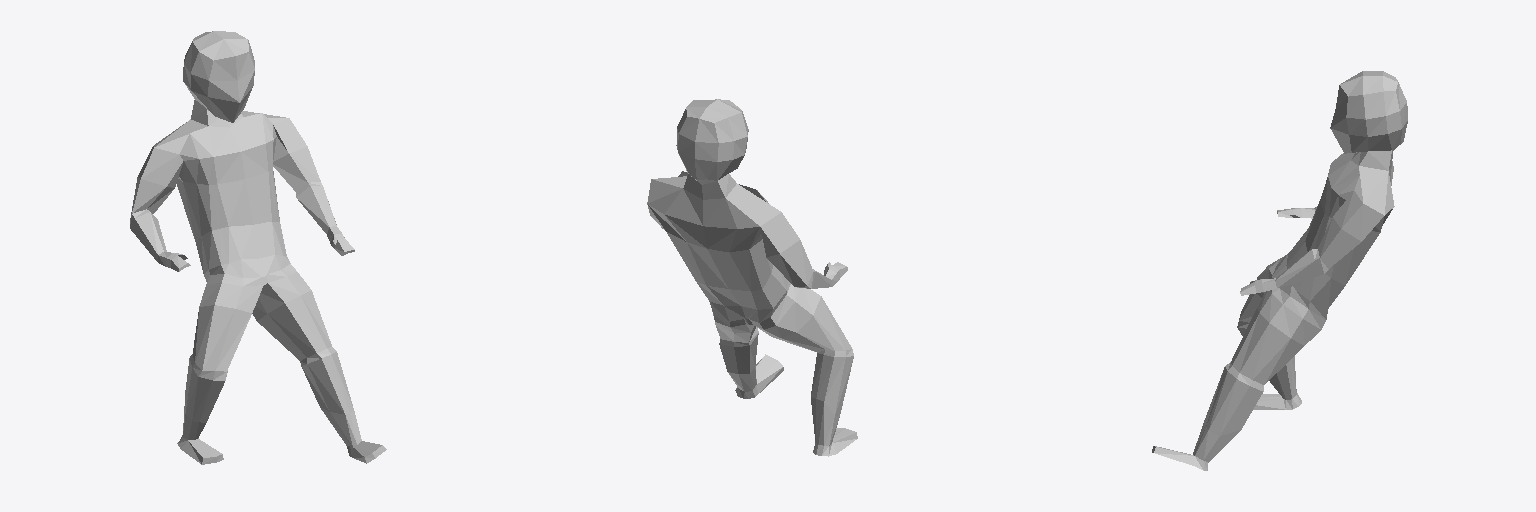
The model's file is char.obj.
3 renders of one model, left to right at view 1: azimuth 30°, elevation 25°; view 2: azimuth 150°, elevation 25°; view 3: azimuth 270°, elevation 25°, orthographic.
Parts seen in each view (by area): view 1: Cube; view 2: Cube; view 3: Cube.
Part boxes in pixels (bbox=[...]): Cube: bbox=[130, 31, 386, 464]; Cube: bbox=[647, 99, 857, 456]; Cube: bbox=[1152, 71, 1407, 470].
Bounding box in the file's own units: 6.01 × 12.49 × 7.88.